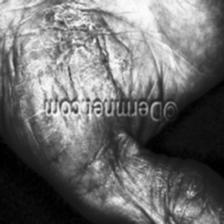Non-Cancerous Skin Condition: (38, 7, 130, 96), (164, 184, 224, 224)
